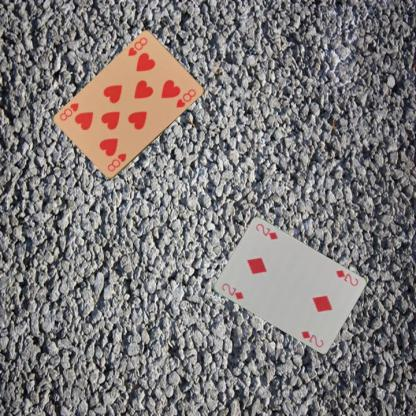2d: (218, 280, 245, 301), (333, 268, 359, 287)
8h: (104, 151, 128, 173), (126, 34, 148, 58)
